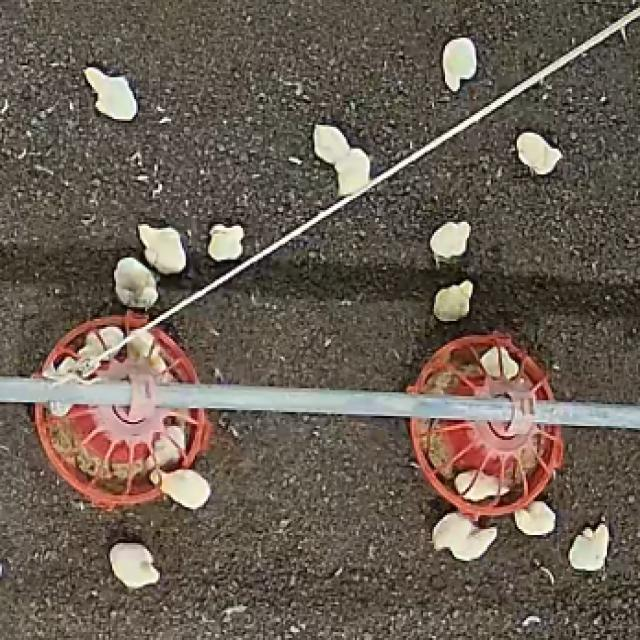broiler: (83, 67, 136, 119), (149, 468, 210, 509), (109, 543, 158, 588), (140, 224, 184, 273), (114, 258, 156, 309), (568, 521, 609, 571), (326, 149, 368, 194), (515, 133, 561, 174), (441, 38, 476, 91), (432, 279, 473, 321), (430, 222, 467, 266), (432, 513, 476, 549), (454, 470, 508, 499), (314, 125, 349, 166), (451, 527, 495, 559), (513, 501, 554, 535), (208, 224, 243, 260), (154, 424, 184, 464), (480, 349, 519, 378)
pipe: (156, 382, 511, 420), (0, 376, 129, 406), (531, 400, 638, 428)
rice: (406, 333, 563, 537), (31, 404, 211, 507), (39, 311, 138, 374), (156, 329, 195, 378)
